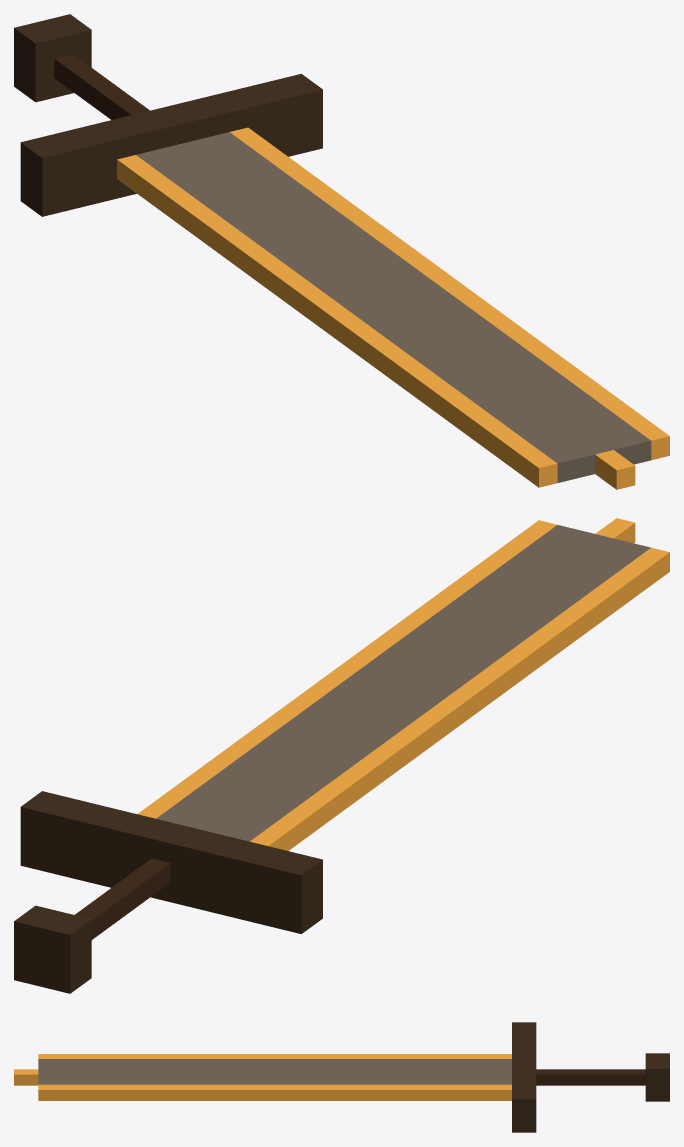
File: vox_great_titan.glb
3 views of the same model, one above another, from view 1: azimuth 30°, elevation 25°; view 2: azimuth 150°, elevation 25°; view 3: azimuth 270°, elevation 25° (orthographic). The views are drawn at different scales.
Parts seen in each view (by area): view 1: vox_great_titan; view 2: vox_great_titan; view 3: vox_great_titan.
Boxes of the visible parts, left/top/right/bottom form: vox_great_titan: left=14, top=14, right=669, bottom=489; vox_great_titan: left=14, top=518, right=669, bottom=993; vox_great_titan: left=14, top=1022, right=669, bottom=1132.
Bounding box in the file's own units: 0.3 × 0.06 × 1.08.
